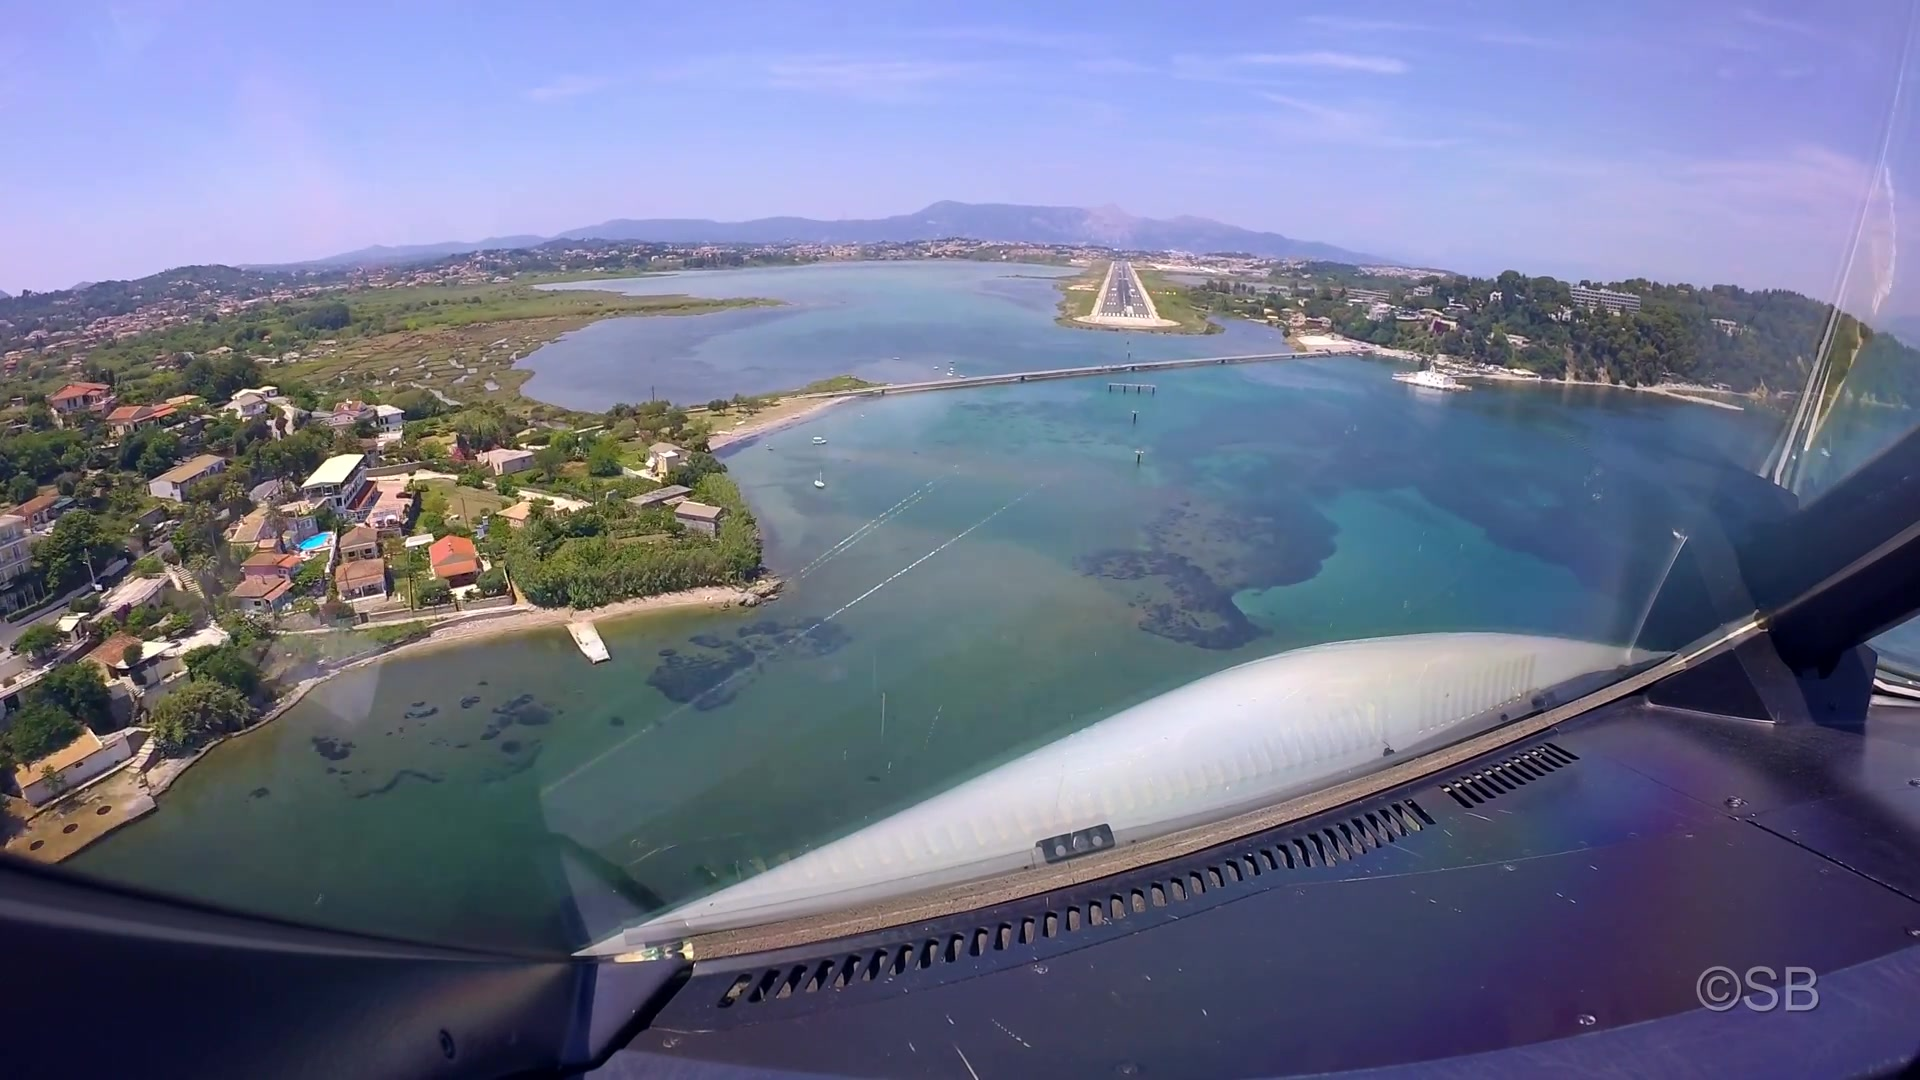entrance: (1098, 310, 1149, 316)
runway: (1093, 260, 1153, 316)
